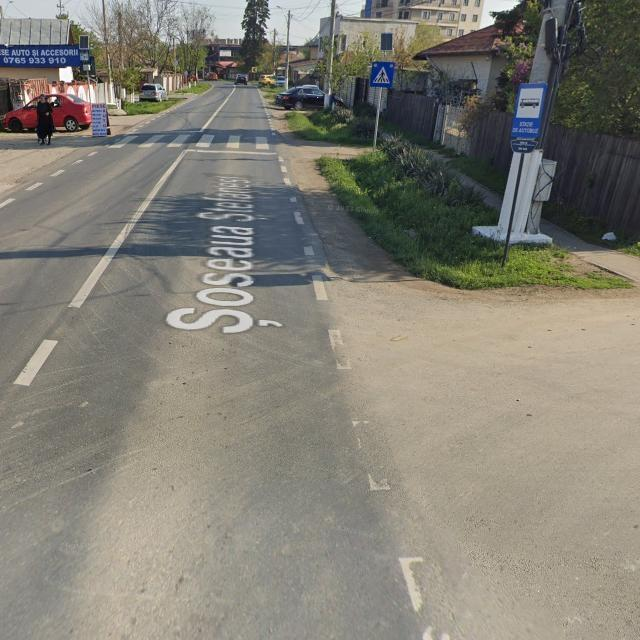info_crosswalk: (370, 61, 396, 87)
